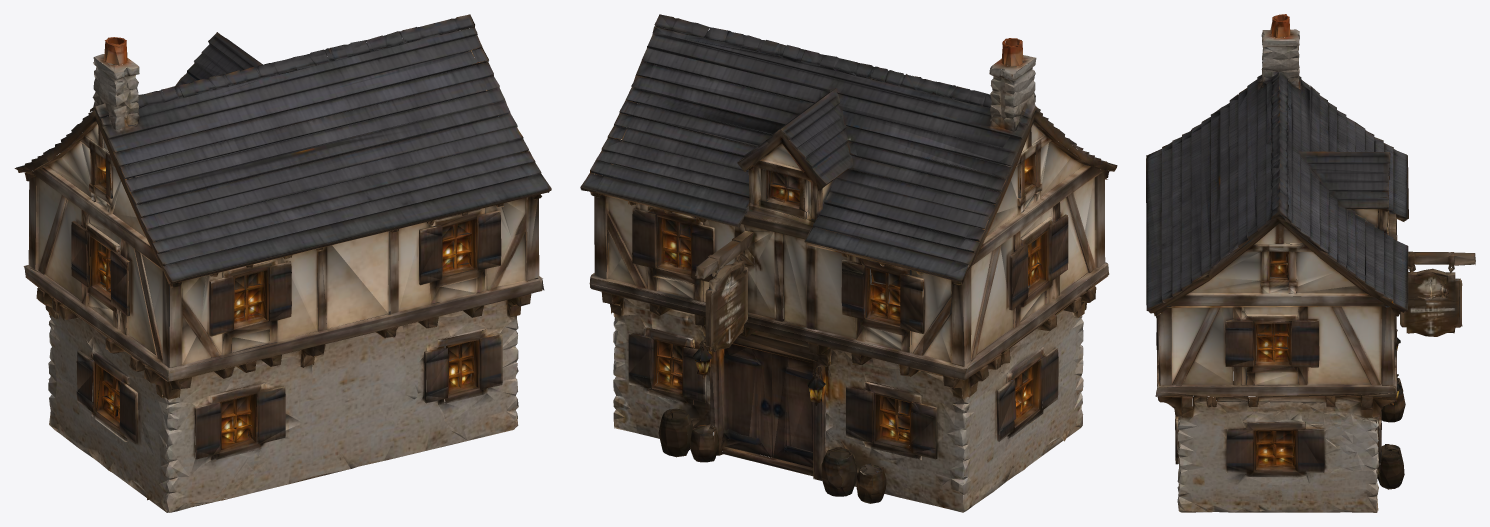
Rendered from tavern.gltf.
3 renders of one model, left to right at view 1: azimuth 30°, elevation 25°; view 2: azimuth 150°, elevation 25°; view 3: azimuth 270°, elevation 25°, orthographic. The views are drawn at different scales.
Visible parts, largest first — view 1: tavern; view 2: tavern; view 3: tavern.
Boxes of the visible parts, x1,y1,x2,y2 form: tavern: (14,14,551,512); tavern: (580,14,1117,512); tavern: (1146,14,1475,512).
Bounding box in the file's own units: 9.05 × 9.65 × 8.08.
1 material, 1 textured.
